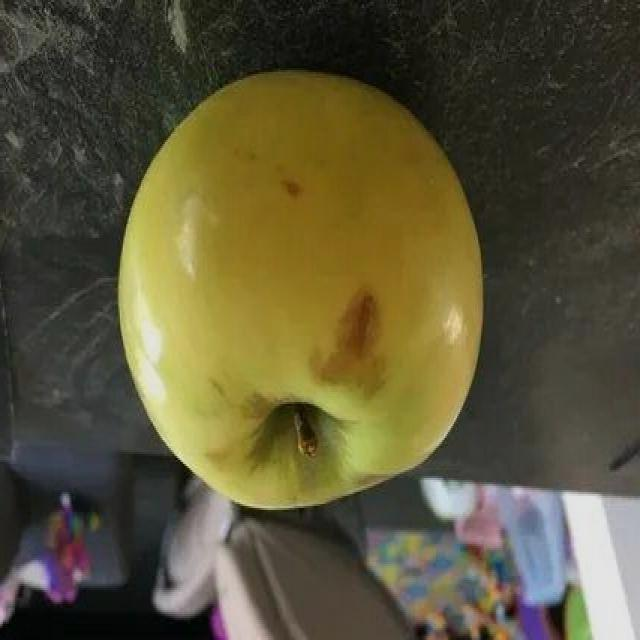green apple: (116, 68, 485, 513)
